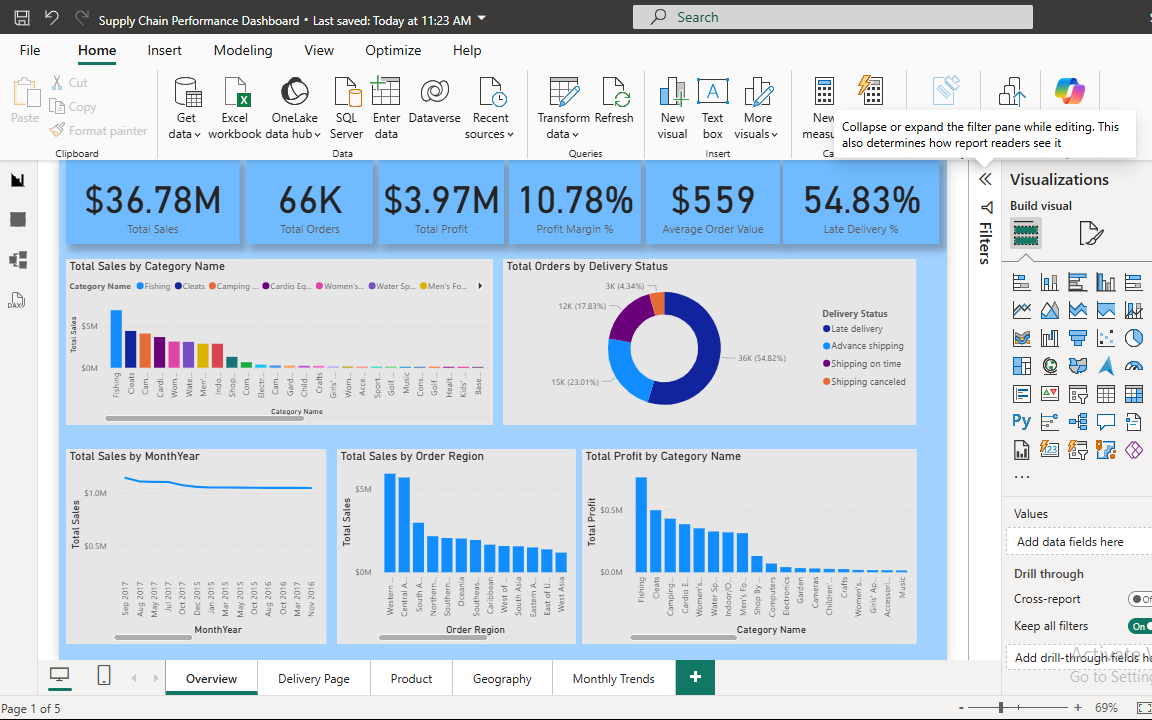

The page's visual inventory and layout, read from the dashboard file:
{"tool":"powerbi","page":{"name":"Overview","canvas":[1280,720],"ordinal":0},"visuals":[{"type":"card","fields":{"Values":["DataCoOrders.Total Sales"]},"box":[10.1,0,250.3,120.9],"z":0},{"type":"card","fields":{"Values":["DataCoOrders.Total Orders"]},"box":[270.4,0,181.4,120.9],"z":1000},{"type":"card","fields":{"Values":["DataCoOrders.Total Profit"]},"box":[460.3,0,179.7,120.9],"z":2000},{"type":"card","fields":{"Values":["DataCoOrders.Profit Margin %"]},"box":[648.4,0,189.8,120.9],"z":3000},{"type":"card","fields":{"Values":["DataCoOrders.Average Order Value"]},"box":[844.9,0,193.2,120.9],"z":4000},{"type":"card","fields":{"Values":["DataCoOrders.Late Delivery %"]},"box":[1043.1,0,225.1,120.9],"z":5000},{"type":"lineChart","fields":{"Category":["DataCoOrders.MonthYear"],"Y":["DataCoOrders.Total Sales"]},"box":[10.1,416.6,374.6,280.5],"z":6000},{"type":"columnChart","title":"Total Sales by Category Name ","fields":{"Category":["DataCoOrders.Category Name"],"Y":["DataCoOrders.Total Sales"],"Series":["DataCoOrders.Category Name"]},"box":[10.1,142.8,614.8,238.5],"z":7000},{"type":"columnChart","fields":{"Category":["DataCoOrders.Order Region"],"Y":["DataCoOrders.Total Sales"]},"box":[399.8,416.6,344.4,280.5],"z":8000},{"type":"donutChart","fields":{"Category":["DataCoOrders.Delivery Status"],"Y":["DataCoOrders.Total Orders"]},"box":[640,142.8,594.6,238.5],"z":9000},{"type":"columnChart","fields":{"Category":["DataCoOrders.Category Name"],"Y":["DataCoOrders.Total Profit"]},"box":[752.5,416.6,482.1,280.5],"z":10000}]}

Visuals, with their boxes on the page's 1280x720 design canvas (x1, y1, x2, y2). These are canvas units, not pixel positions in the 1152x720 screenshot, which may show the page scaled, cropped or inside an application window:
card - DataCoOrders.Total Sales: box=[10, 0, 260, 121]
card - DataCoOrders.Total Orders: box=[270, 0, 452, 121]
card - DataCoOrders.Total Profit: box=[460, 0, 640, 121]
card - DataCoOrders.Profit Margin %: box=[648, 0, 838, 121]
card - DataCoOrders.Average Order Value: box=[845, 0, 1038, 121]
card - DataCoOrders.Late Delivery %: box=[1043, 0, 1268, 121]
lineChart - DataCoOrders.MonthYear x DataCoOrders.Total Sales: box=[10, 417, 385, 697]
"Total Sales by Category Name " columnChart: box=[10, 143, 625, 381]
columnChart - DataCoOrders.Order Region x DataCoOrders.Total Sales: box=[400, 417, 744, 697]
donutChart - DataCoOrders.Delivery Status x DataCoOrders.Total Orders: box=[640, 143, 1235, 381]
columnChart - DataCoOrders.Category Name x DataCoOrders.Total Profit: box=[752, 417, 1235, 697]
